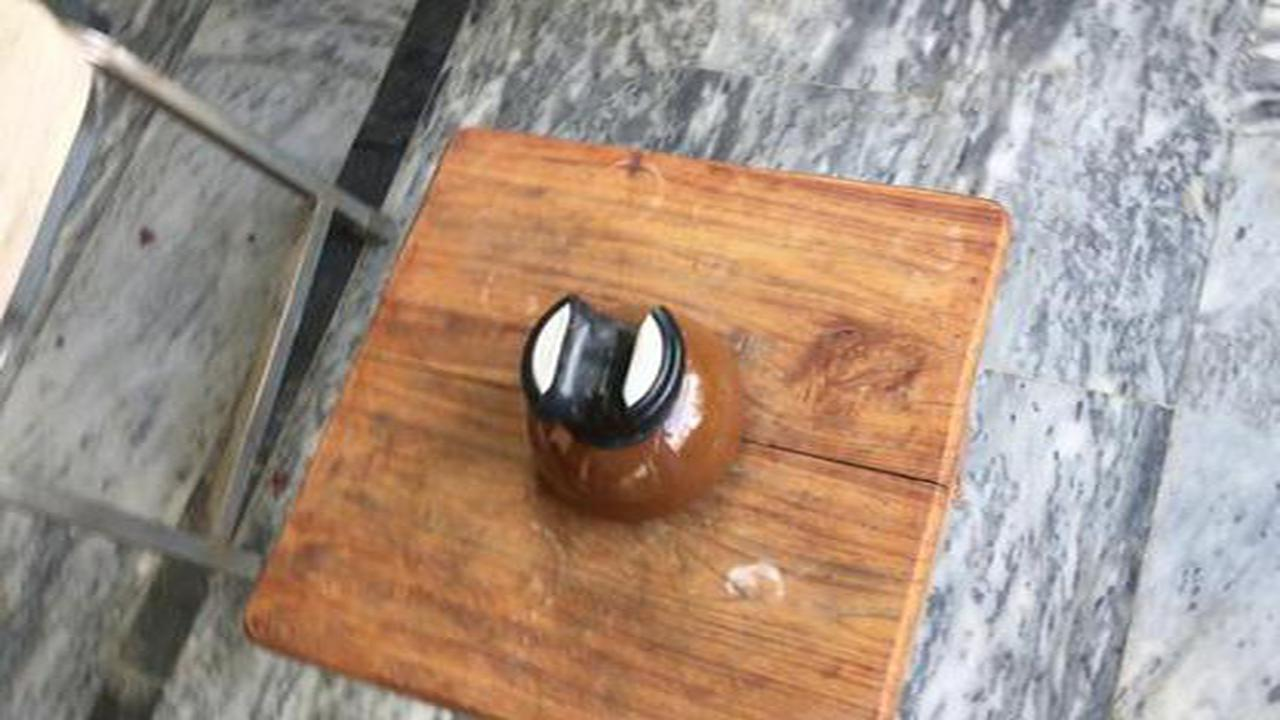insulator_pin: (499, 272, 767, 544)
